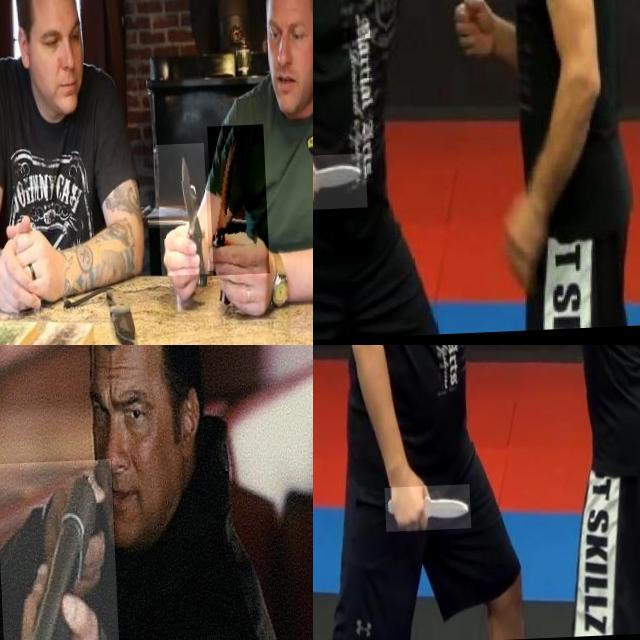-: (204, 128, 266, 279), (153, 146, 206, 279), (379, 486, 466, 534), (313, 155, 365, 212)
gun-knife-thesis - v11 Yolov5 augmented: (0, 463, 120, 640)
